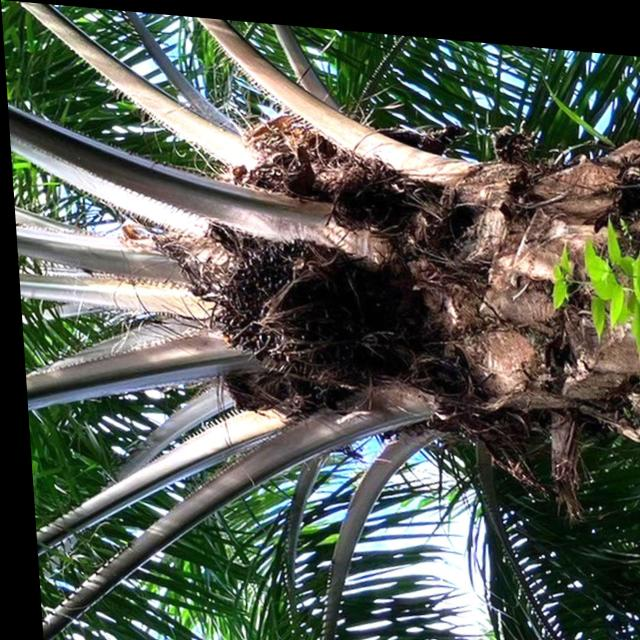ripe: (207, 225, 350, 380)
